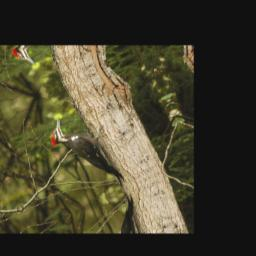Woodpecker: (42, 99, 131, 206)
